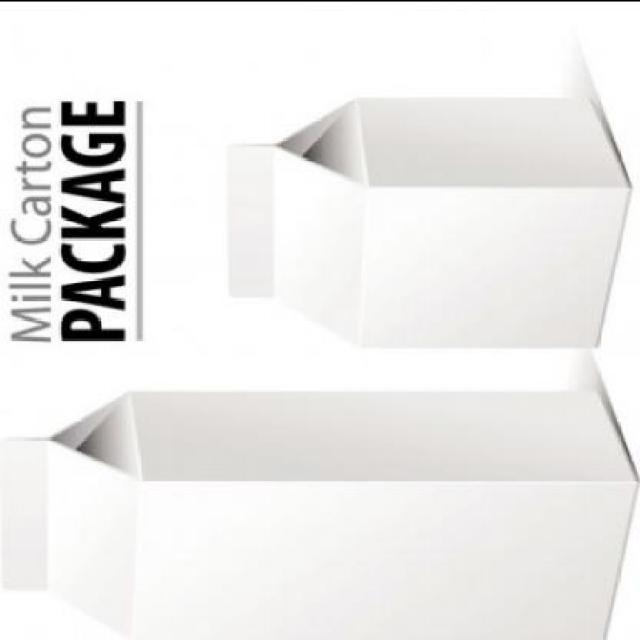non_white_jug: (0, 381, 638, 638), (207, 79, 638, 358)
